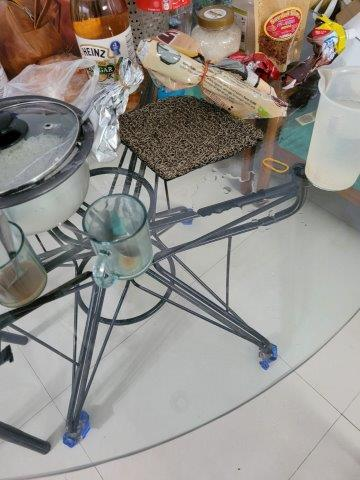karet: (261, 158, 291, 175)
